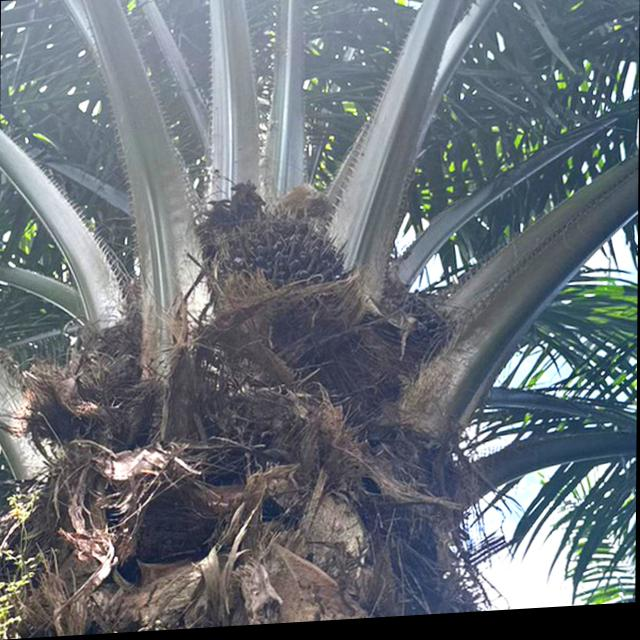almost: (199, 201, 356, 349)
